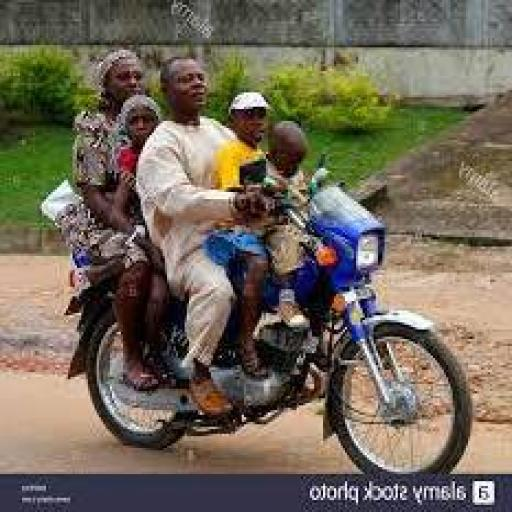helmet: (62, 152, 474, 474)
